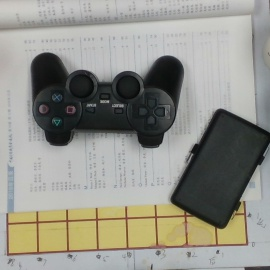remote: (29, 48, 186, 150)
